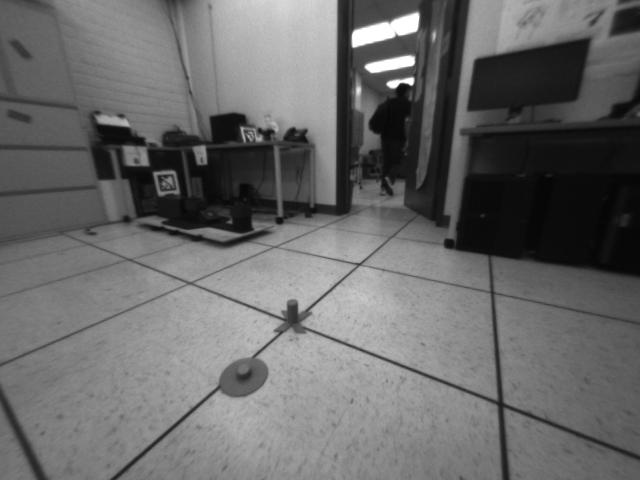X: (272, 298, 313, 335)
